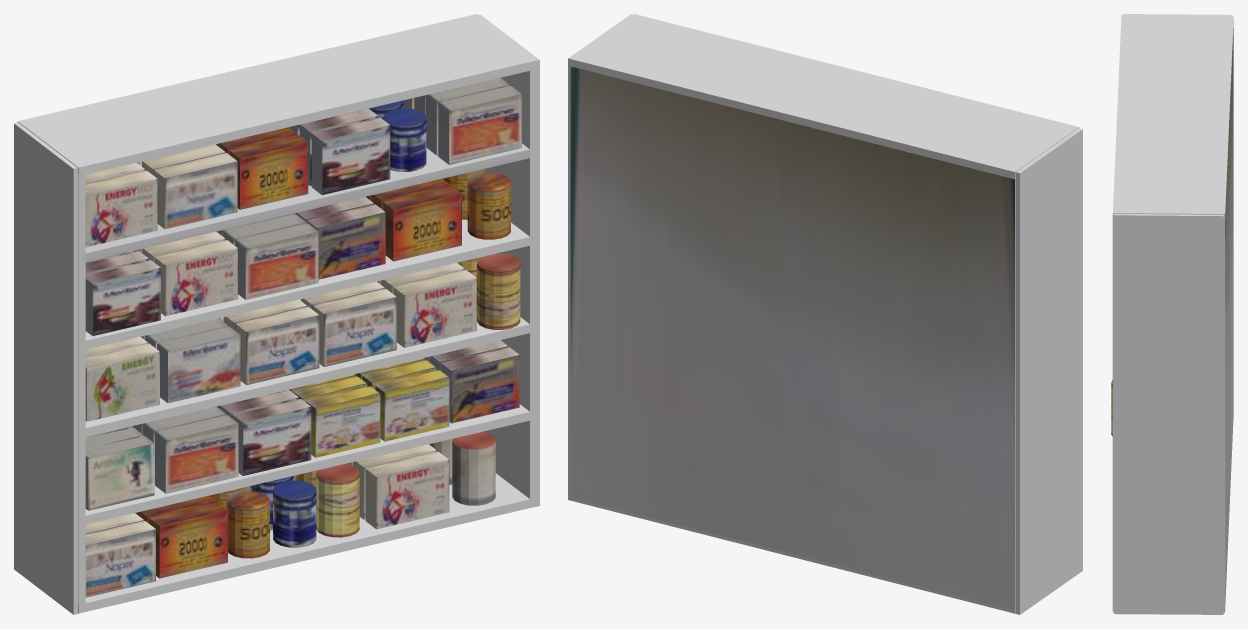
Rendered from shelf.gltf.
The picture shows the model from 3 angles, left to right: view 1: azimuth 30°, elevation 25°; view 2: azimuth 150°, elevation 25°; view 3: azimuth 270°, elevation 25°; orthographic projection. The views are drawn at different scales.
Parts seen in each view (by area): view 1: Cube.008, Cube, Cube.005, Cube.013, Cube.002, Cube.003, Cube.021, Cube.007, Cube.029, Cube.015, Cube.014, Cube.017 (+22 smaller); view 2: Cube.001, Cube.008, Cube, Cube.025; view 3: Cube.025, Cube.008, Cube.001, Cube.
Part boxes in pixels (x1,y1,x2,y2): Cube.008: [17, 14, 537, 613]; Cube: [14, 122, 78, 614]; Cube.005: [403, 77, 521, 164]; Cube.013: [132, 406, 238, 493]; Cube.002: [347, 444, 449, 529]; Cube.003: [289, 108, 390, 194]; Cube.021: [216, 213, 318, 299]; Cube.007: [137, 144, 237, 229]; Cube.029: [377, 263, 476, 347]; Cube.015: [219, 300, 319, 384]; Cube.014: [141, 318, 240, 403]; Cube.017: [299, 281, 396, 366]; Cube.001: [570, 66, 1014, 610]; Cube.008: [570, 14, 1079, 613]; Cube: [1015, 128, 1082, 614]; Cube.025: [568, 14, 632, 500]; Cube.025: [1113, 214, 1223, 614]; Cube.008: [1112, 15, 1233, 612]; Cube.001: [1225, 27, 1233, 608]; Cube: [1122, 14, 1232, 15].
Size of the model in its own units: 2.04 by 1.88 by 0.5221.
120 materials, 113 textured.
